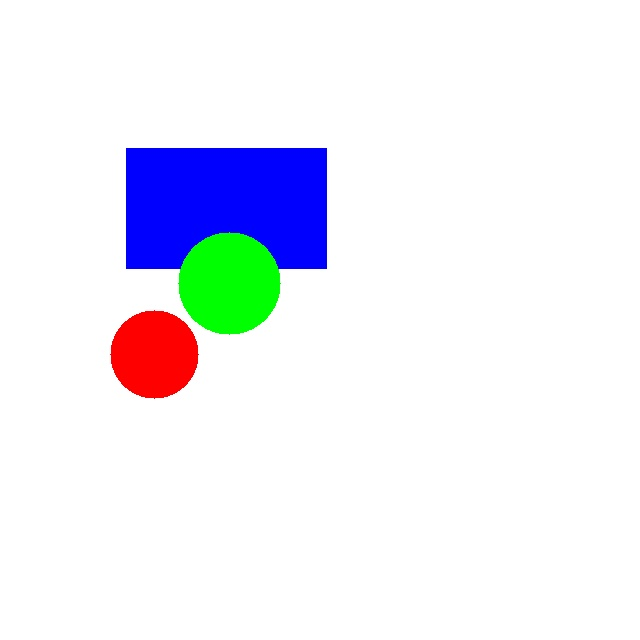cartao: (126, 148, 326, 268)
rosca_externa: (178, 232, 280, 334)
rosca_interna: (110, 310, 198, 398)
